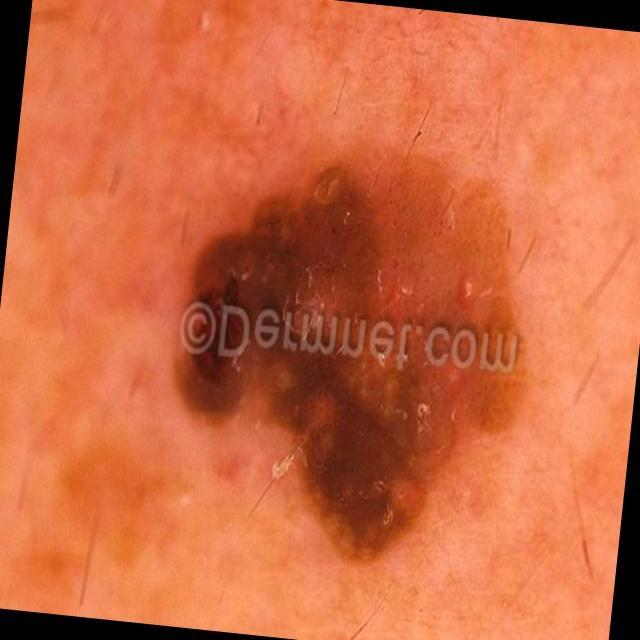Eczema: (161, 134, 516, 576)
